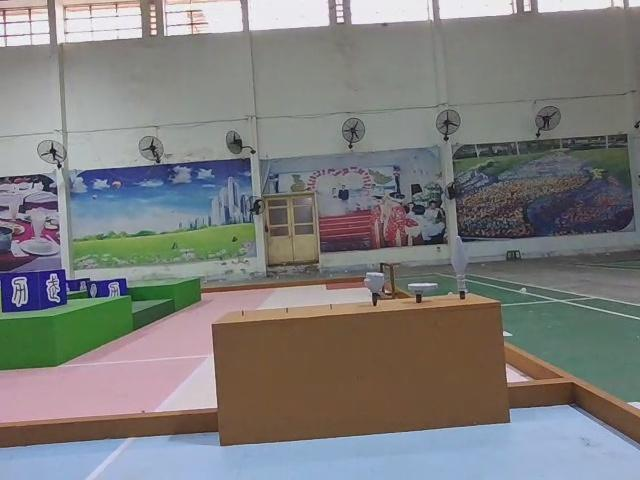Fist: (366, 271, 385, 304)
Hand: (408, 279, 438, 301)
Sph: (447, 233, 468, 301)
